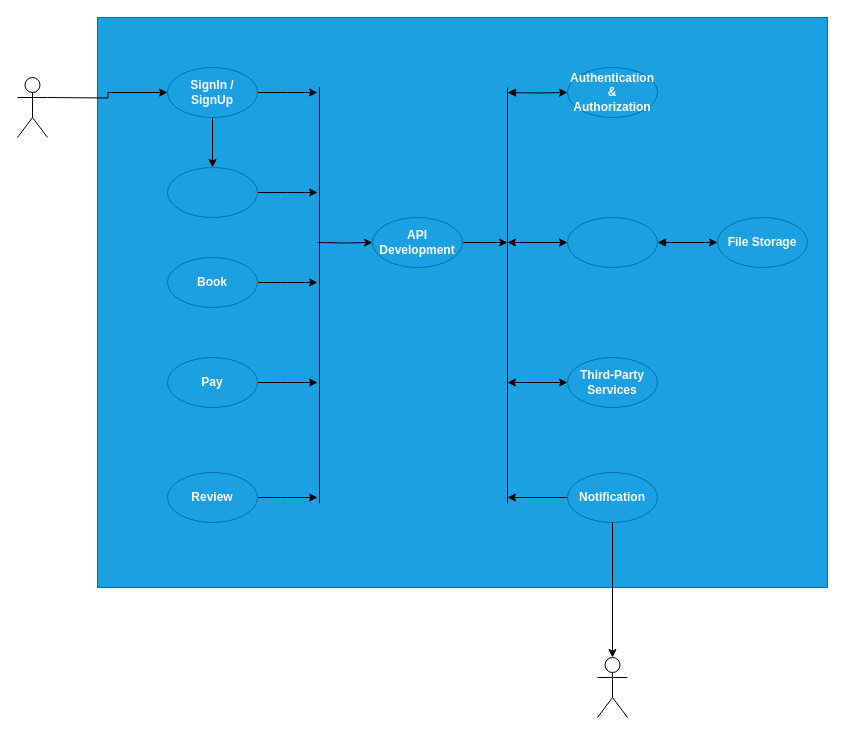
This 845x756 diagram has some shape labels left out. The shapes that lost their labels are listed below. From the top down, each one's centre as x and y in pixels, then its label:
At [32,107]: "Client".
At [212,192]: "Search".
At [612,242]: "Database Management".
At [612,687]: "User".
